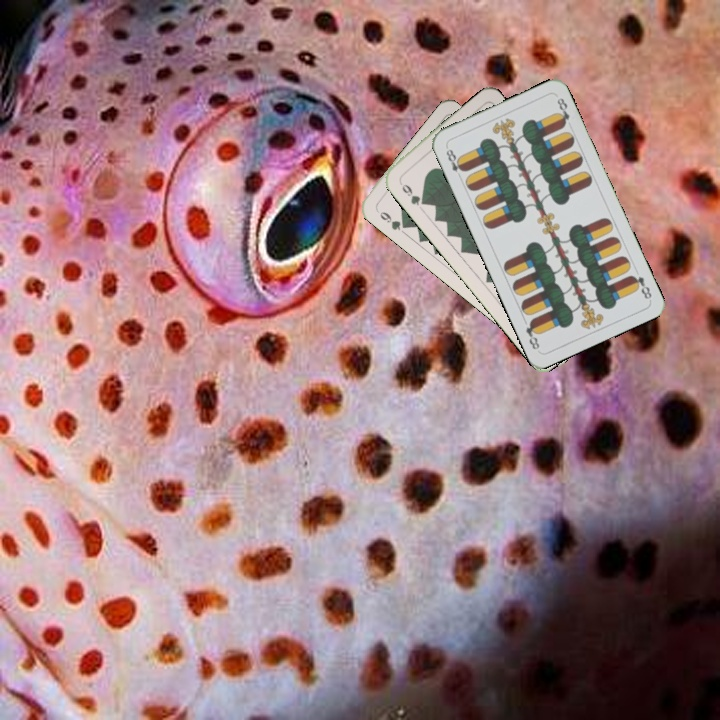E8: (442, 143, 468, 181), (627, 271, 654, 302)
G9: (395, 177, 428, 208), (376, 207, 410, 233)
